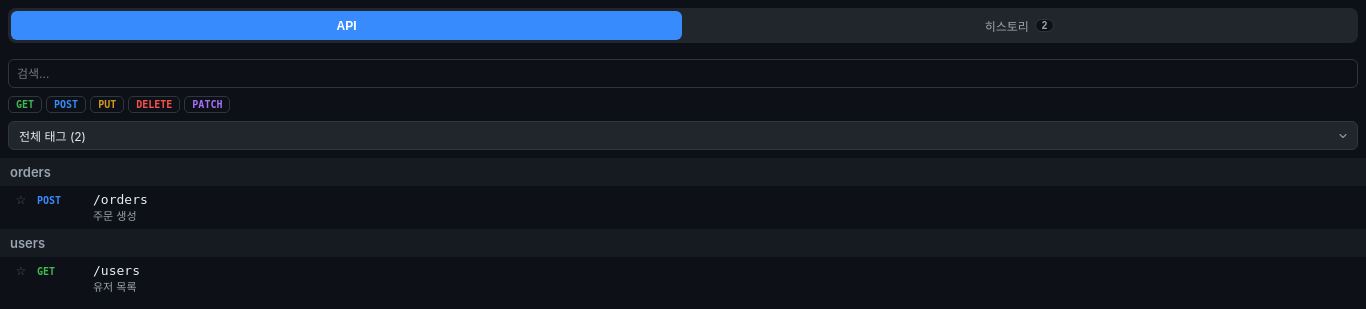
Test: Sidebar - 히스토리 탭 › 검색어 입력 시 일치 항목만 표시한다
This screenshot has width=1366, height=309.
Click the button "히스토리 2" at (1020, 26), box [684,11,1355,40]
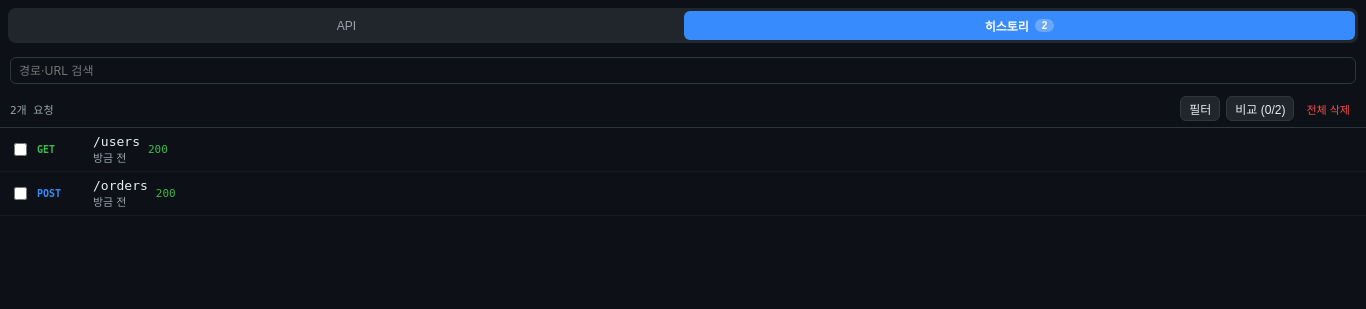
Type "orders" into the search field with placeholder "경로·URL 검색" at (683, 70), box [10,57,1356,84]
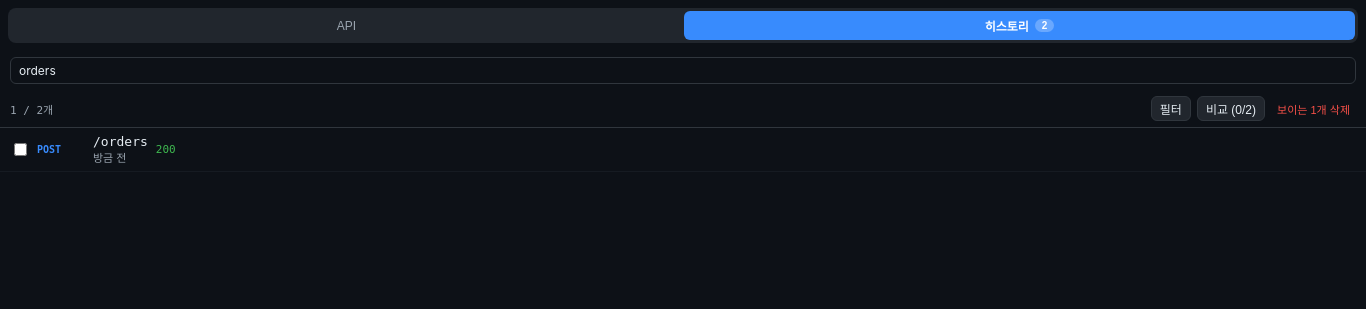
Expected: the text "/orders" is shown, [93,134,148,149]
Expected: the text "/users" is gone
Expected: the text "1 / 2개" is shown, [10,100,53,116]
